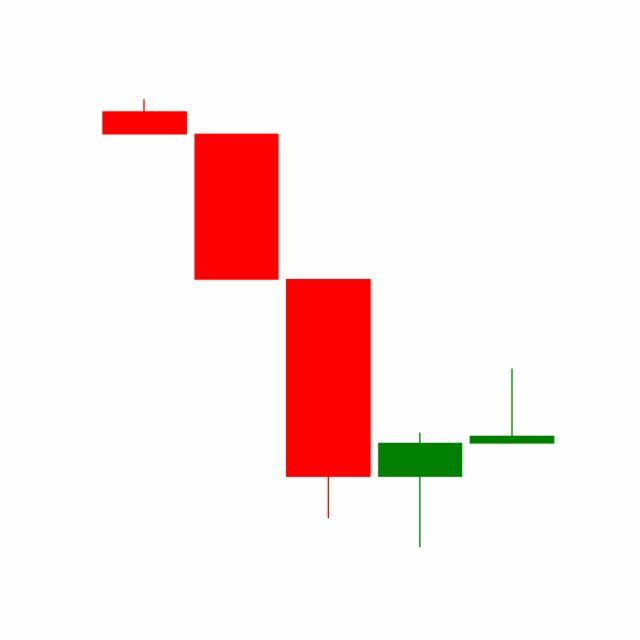Hanging Man: (374, 431, 468, 550)
